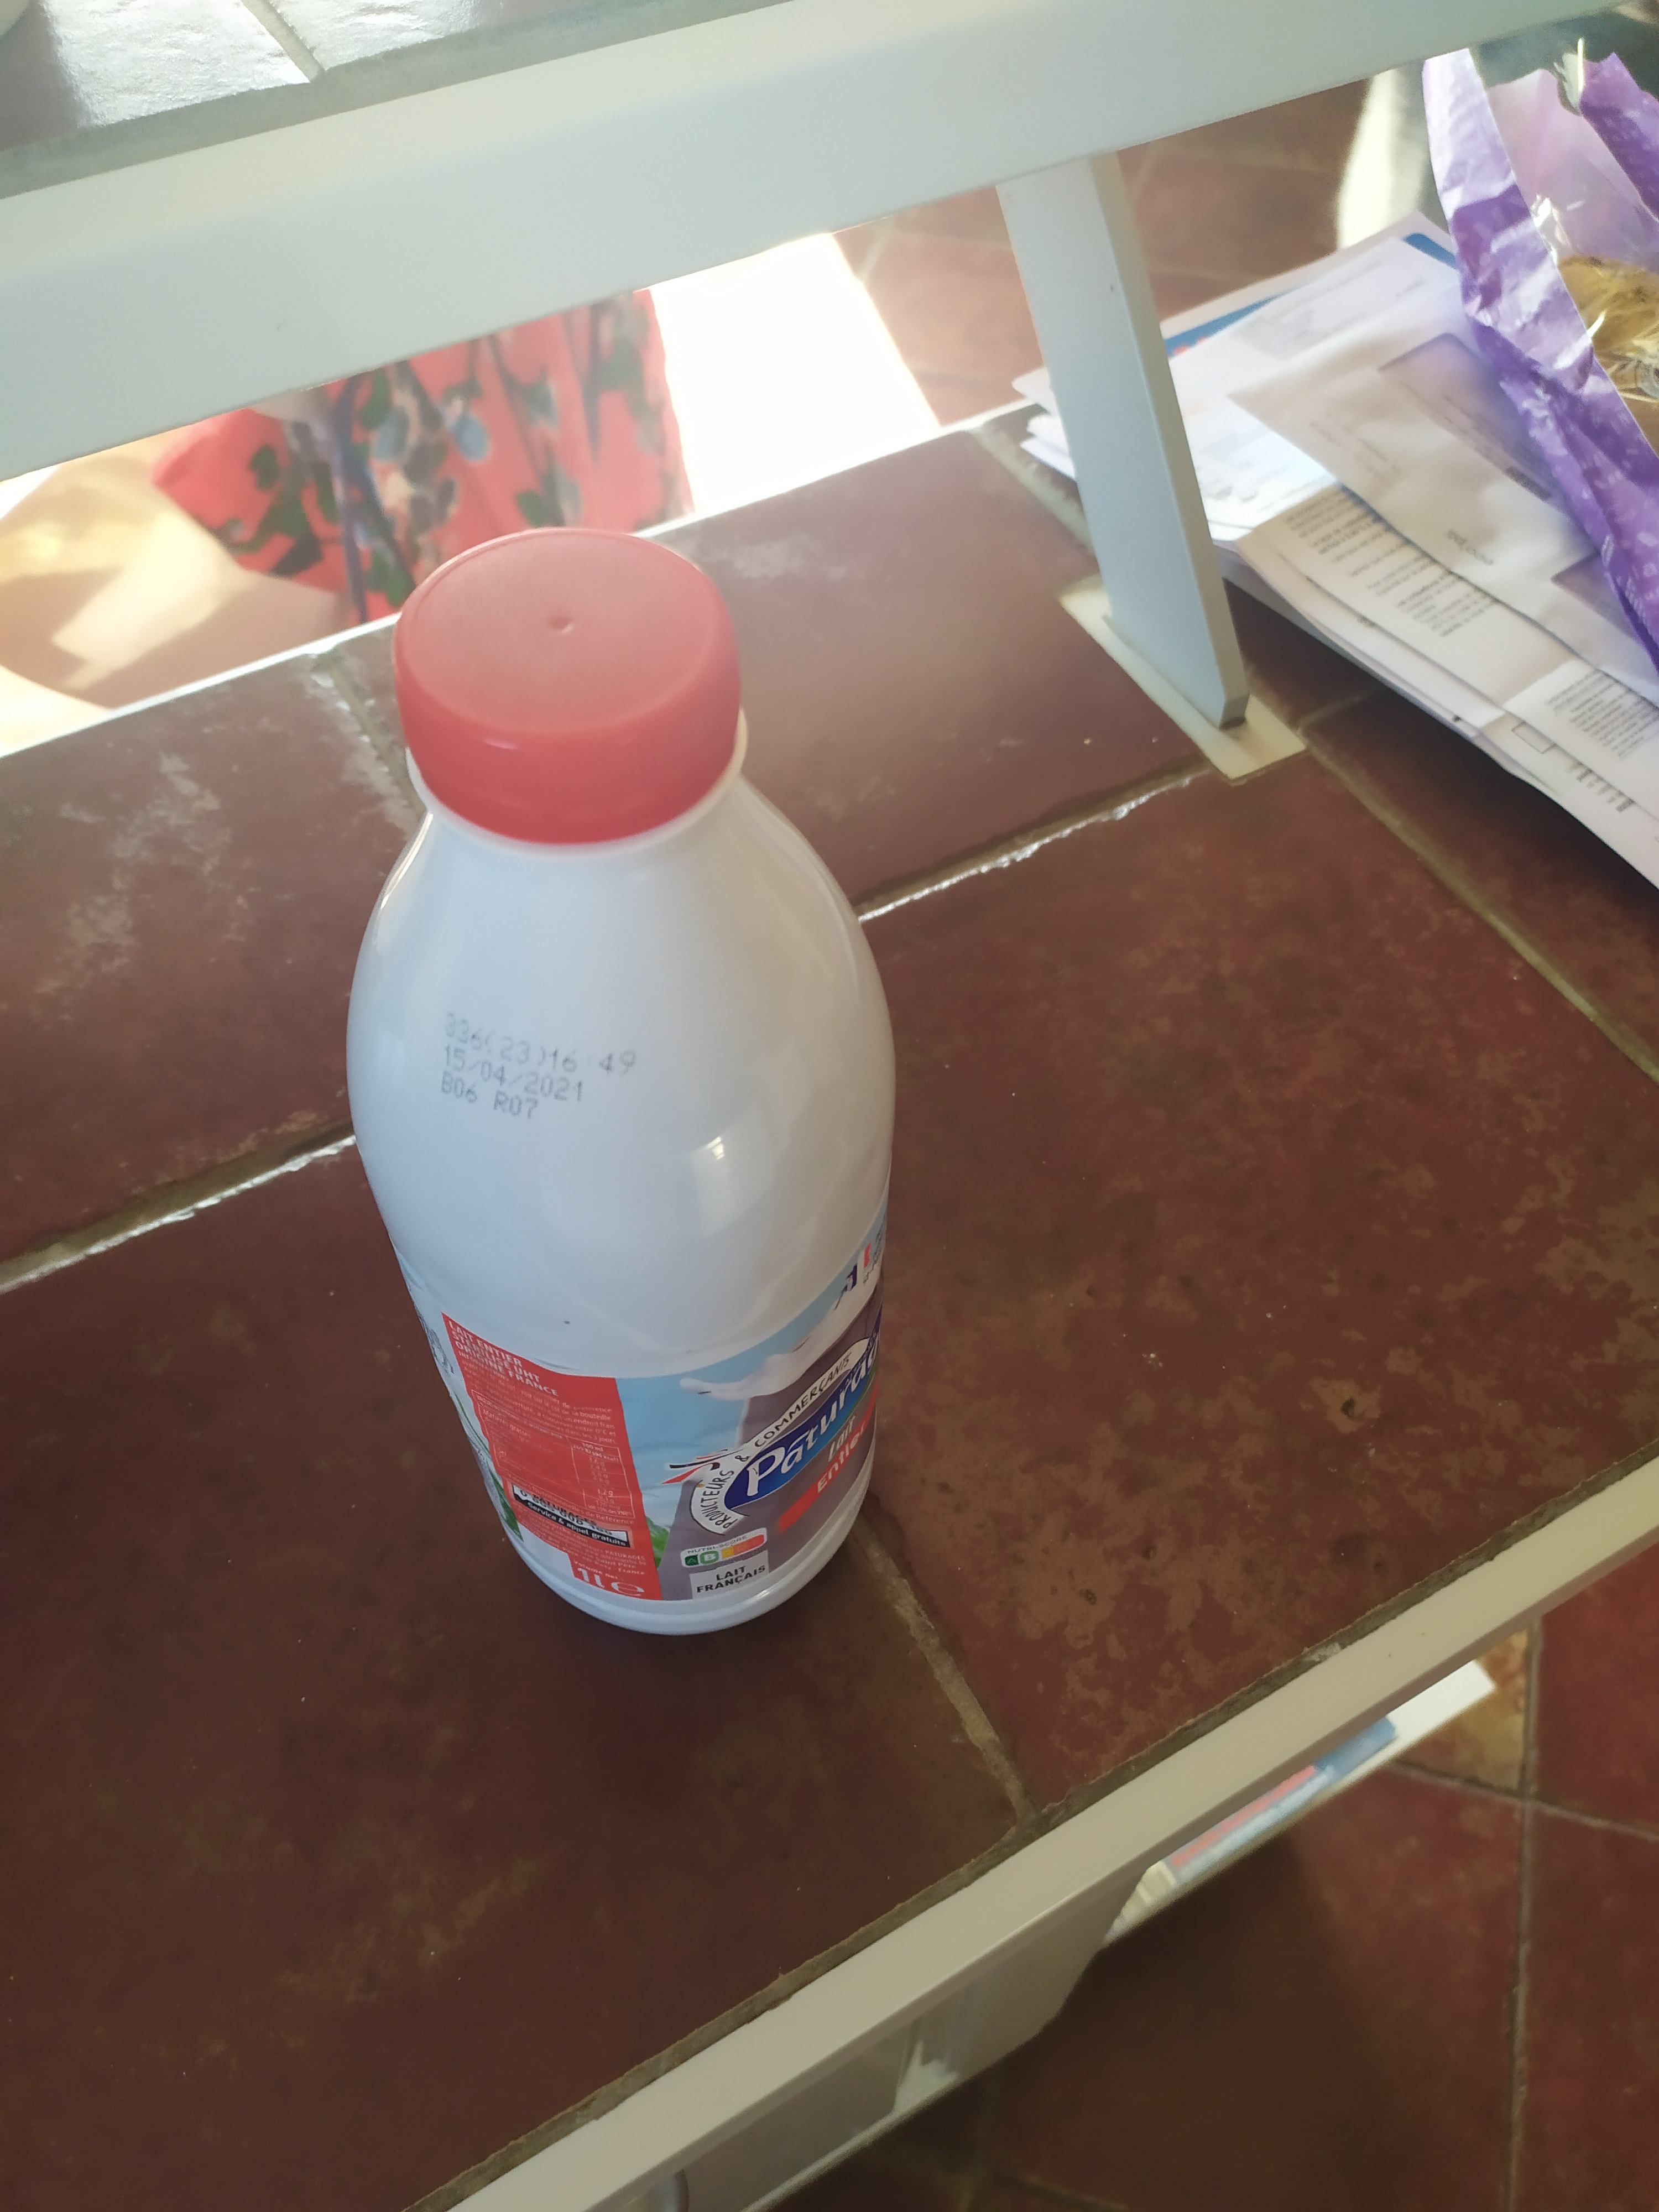bottle: (354, 514, 884, 1656)
